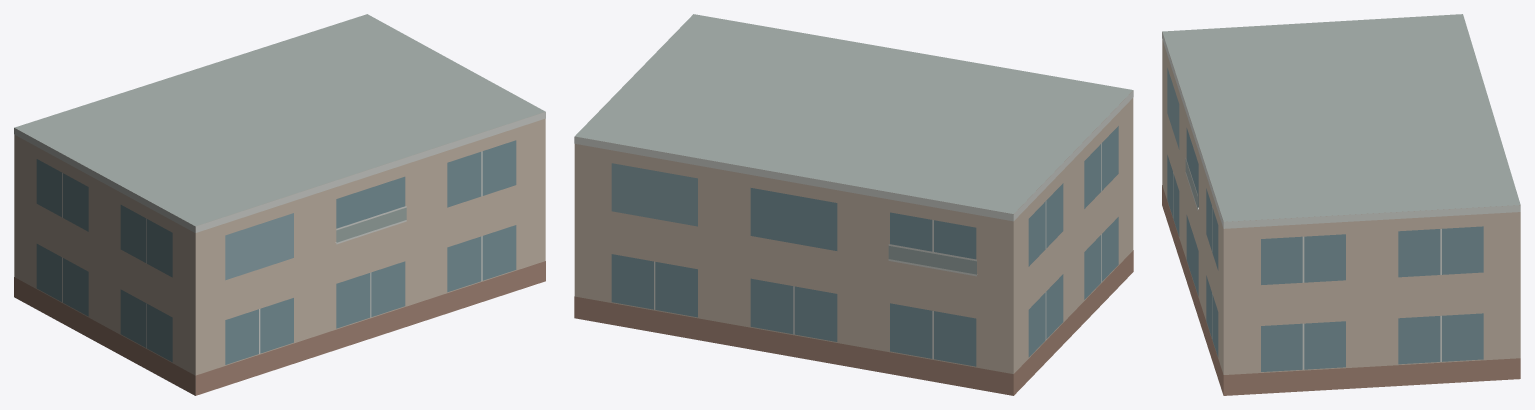
File: survey-upis-32575527.glb
3 renders of one model, left to right at view 1: azimuth 30°, elevation 25°; view 2: azimuth 150°, elevation 25°; view 3: azimuth 270°, elevation 25°, orthographic. The views are drawn at different scales.
Parts seen in each view (by area): view 1: survey-upis-32575527.tmp; view 2: survey-upis-32575527.tmp; view 3: survey-upis-32575527.tmp.
Boxes of the visible parts, x1,y1,x2,y2 form: survey-upis-32575527.tmp: (14, 14, 545, 395); survey-upis-32575527.tmp: (574, 14, 1133, 395); survey-upis-32575527.tmp: (1162, 14, 1520, 395).
Bounding box in the file's own units: 15.65 × 6.1 × 11.41.
